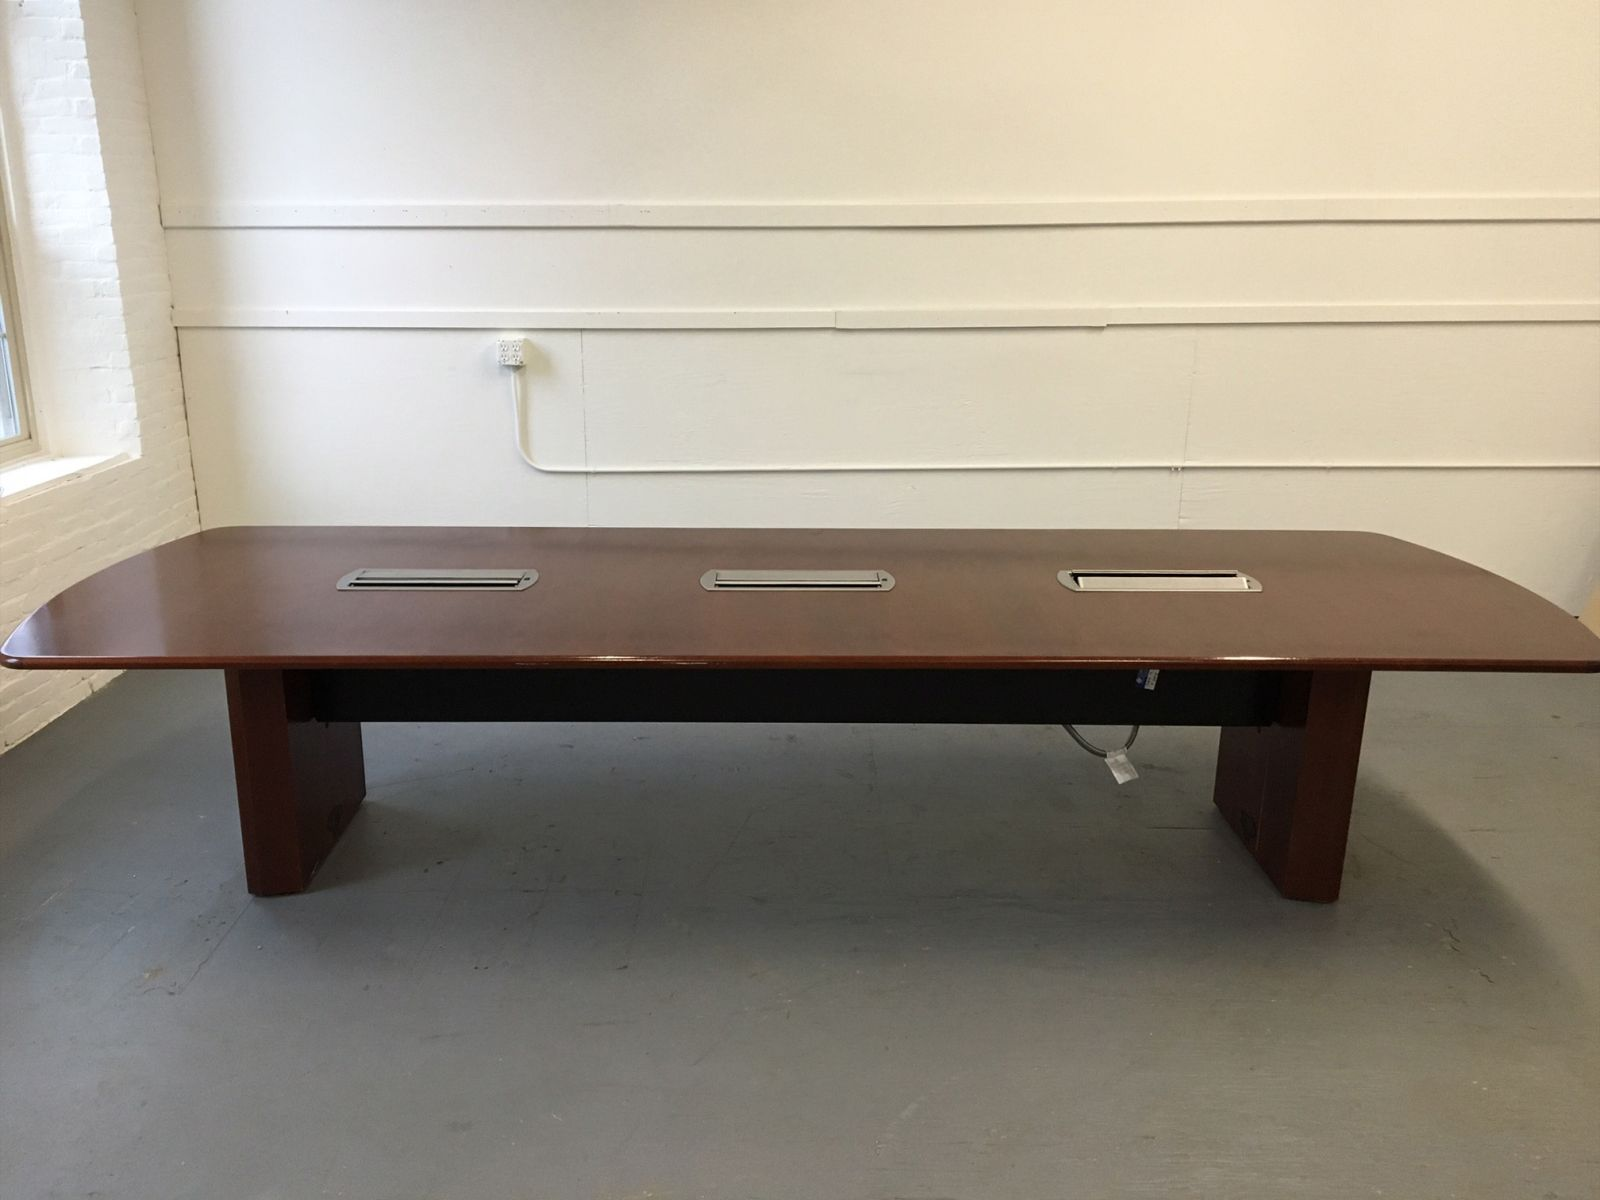conference_table: (3, 526, 1600, 906)
